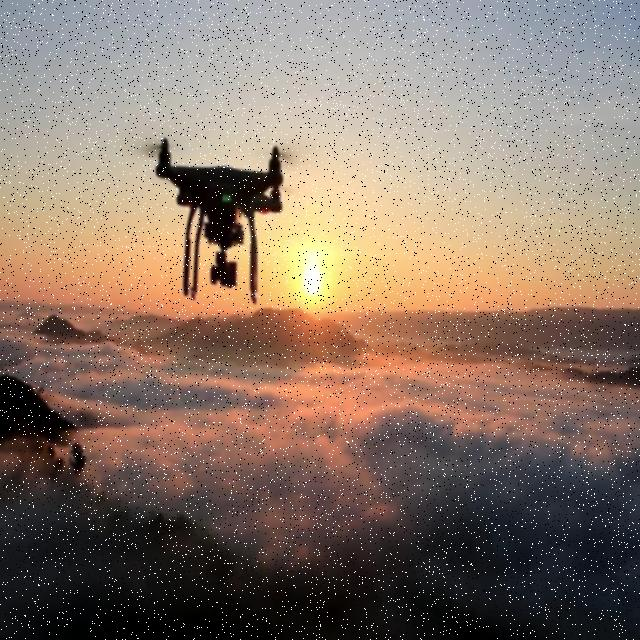UAV: (153, 136, 284, 308)
